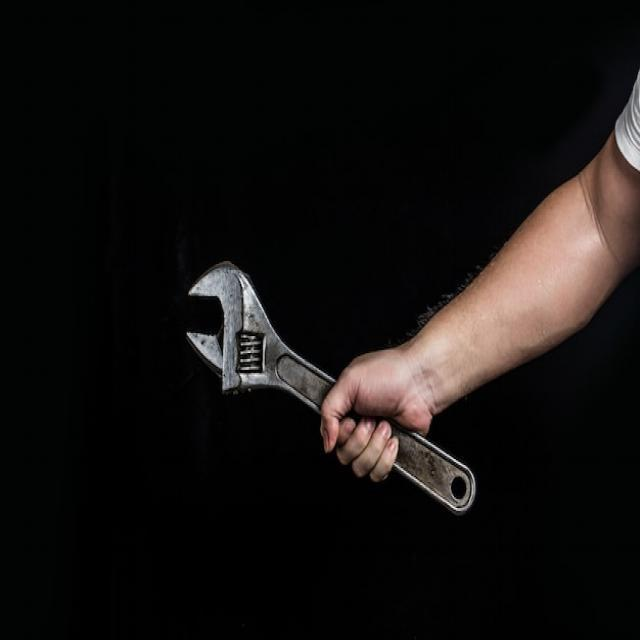wrench: (183, 252, 478, 516)
